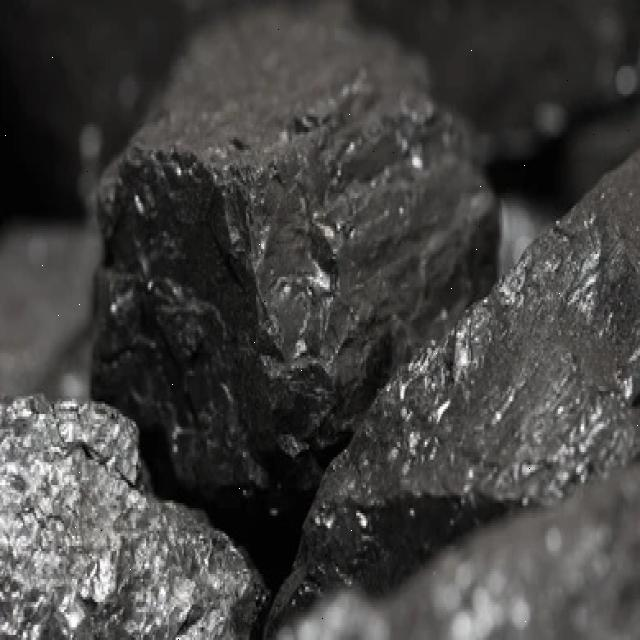Sedimentary: (93, 61, 486, 517), (352, 147, 640, 505), (2, 393, 266, 632)
